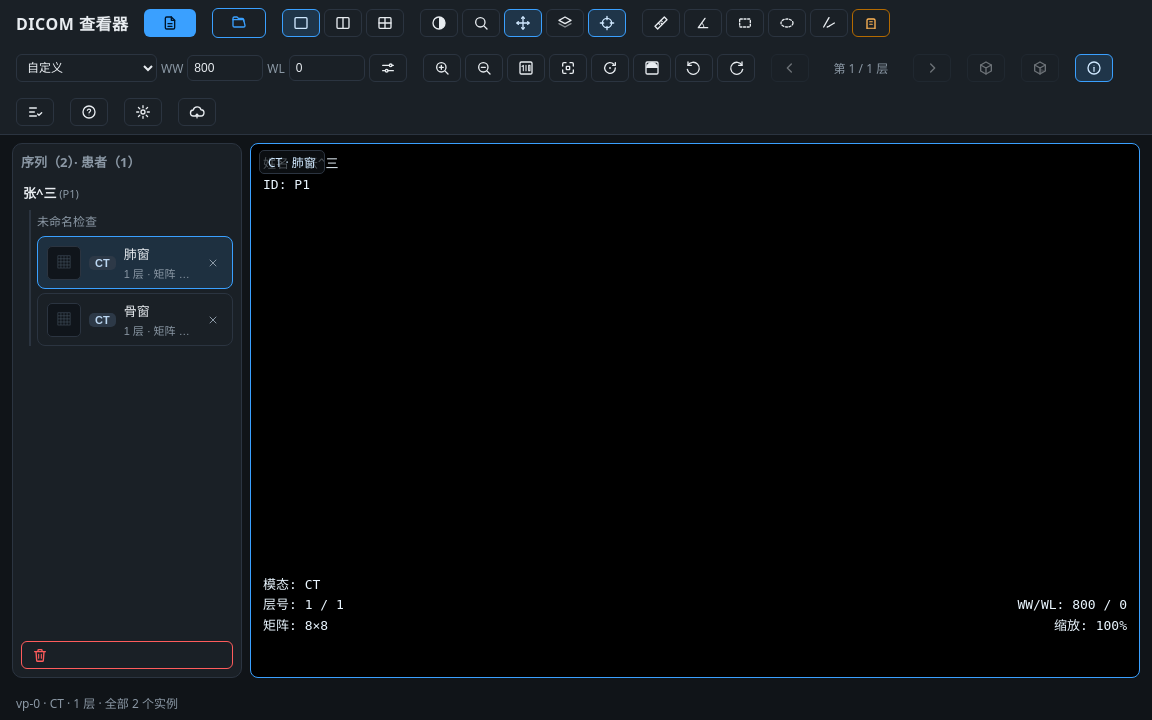
Test case: 数据集关闭与清空（App 集成，FR-2.9） › 点击卡片 × 关闭该序列：面板移除且另一序列保留；视口图像清空
The image size is (1152, 720).
Expected: the number of buttons with class "series-item" is 2, [37,236,233,289]; [37,293,233,346]
Expected: the text "CT · 肺窗" is shown, [259,150,325,174]
Click the 1st button with class "series-item-close" at (213, 262), box [207,256,219,268]
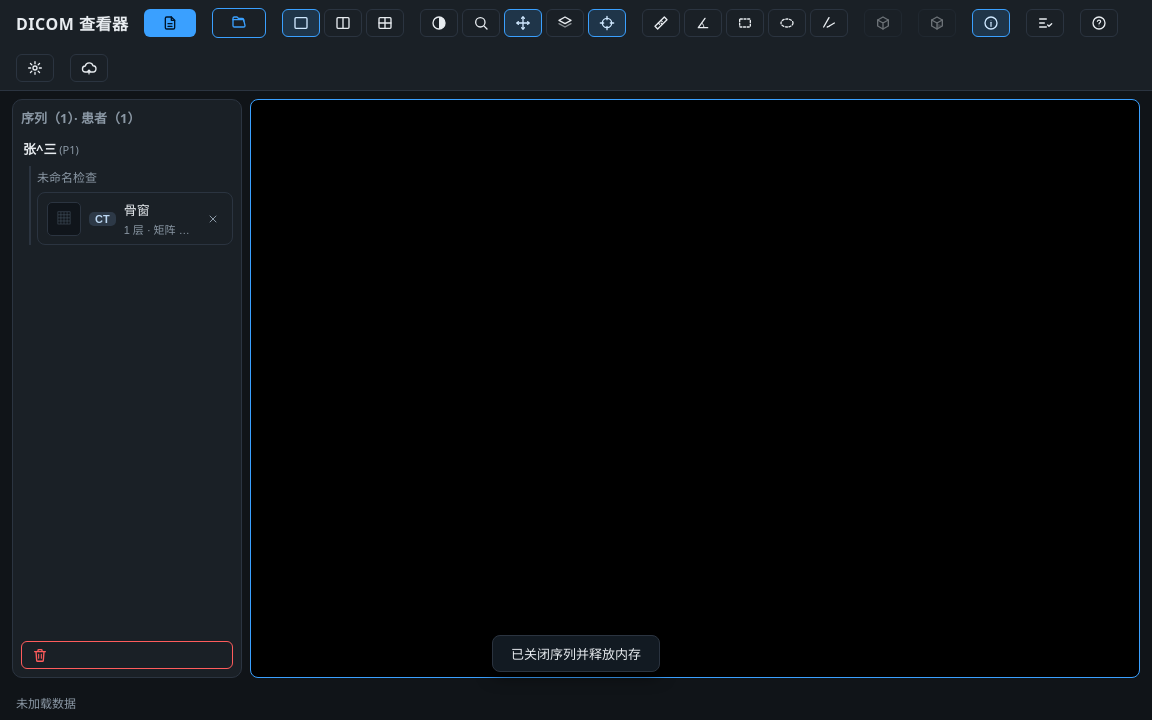
Expected: the button with class "series-item" shows "骨窗", [37,192,233,245]
Result: the number of buttons with class "series-item" is 1 at [37,192,233,245]
Result: the text "已关闭序列并释放内存" is shown at [492,635,660,672]
